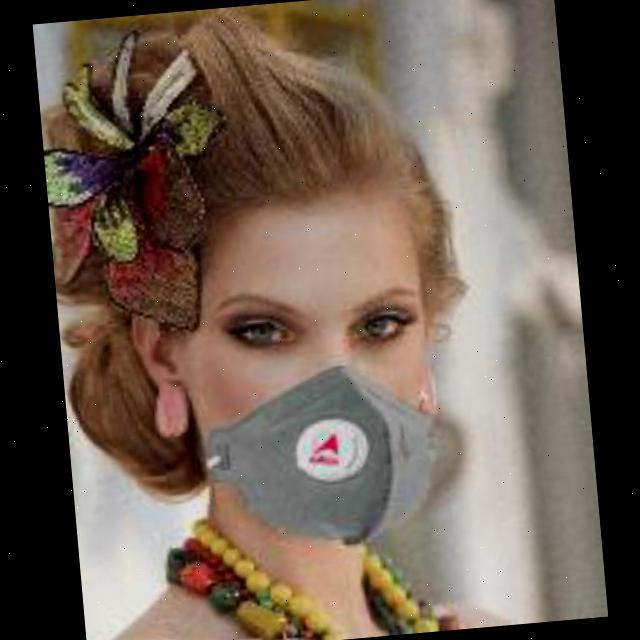suspicion: (115, 152, 518, 541)
